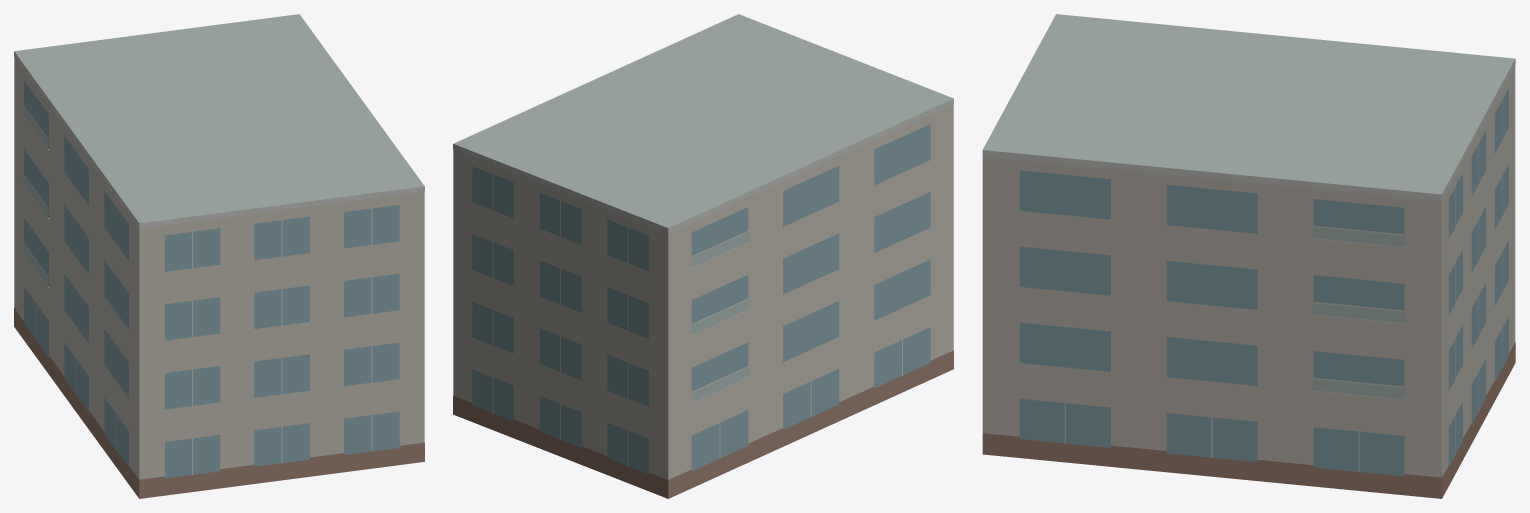
Rendered from residential-5ebbde9e-5d32-4d6d-83d6-2b5429591685.glb.
3 views of the same model, side by side, from view 1: azimuth 30°, elevation 25°; view 2: azimuth 150°, elevation 25°; view 3: azimuth 270°, elevation 25° (orthographic). The views are drawn at different scales.
Parts seen in each view (by area): view 1: residential-5ebbde9e-5d32-4d6d-83d6-2b5429591685.tmp; view 2: residential-5ebbde9e-5d32-4d6d-83d6-2b5429591685.tmp; view 3: residential-5ebbde9e-5d32-4d6d-83d6-2b5429591685.tmp.
Part boxes in pixels (box(x1,y1,x2,y2)): residential-5ebbde9e-5d32-4d6d-83d6-2b5429591685.tmp: box(14, 14, 424, 498); residential-5ebbde9e-5d32-4d6d-83d6-2b5429591685.tmp: box(453, 14, 953, 498); residential-5ebbde9e-5d32-4d6d-83d6-2b5429591685.tmp: box(982, 14, 1515, 498).
Size of the model in its own units: 15.53 by 12.2 by 19.37.
